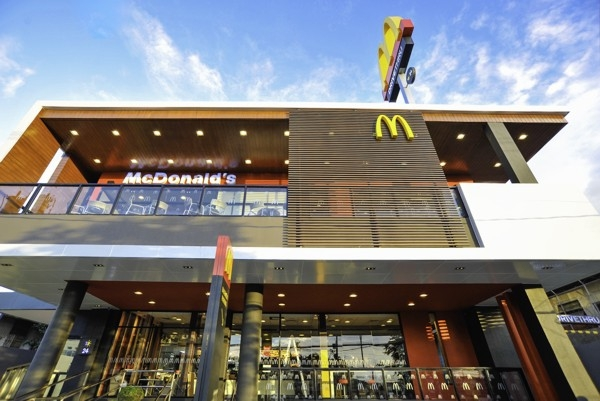mcdonalds: (373, 108, 413, 139), (373, 108, 413, 135)
